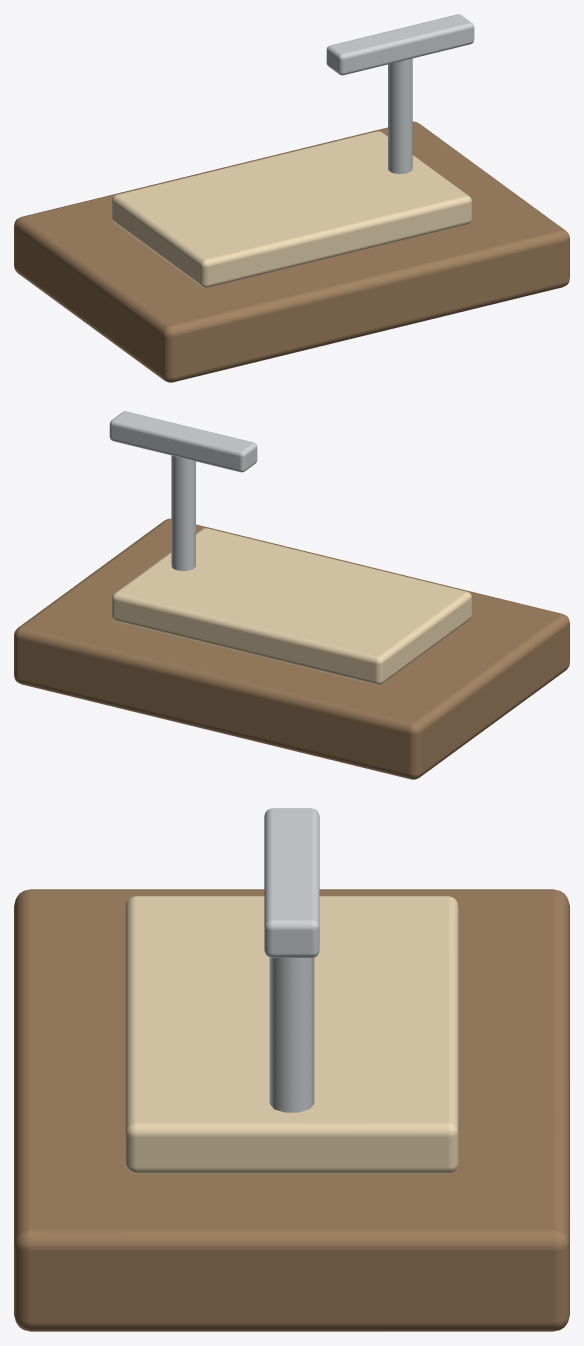
The model's file is marquetry-and-veneer-inlay-workshop-cabinet-scraper-bu-c406b72c__39126.glb.
The picture shows the model from 3 angles, top to bottom: view 1: azimuth 30°, elevation 25°; view 2: azimuth 150°, elevation 25°; view 3: azimuth 270°, elevation 25°; orthographic projection. The views are drawn at different scales.
Parts seen in each view (by area): view 1: cabinet-scraper-burnishing-jig; view 2: cabinet-scraper-burnishing-jig; view 3: cabinet-scraper-burnishing-jig.
Boxes of the visible parts, x1=… form: cabinet-scraper-burnishing-jig: x1=14, y1=14, x2=569, y2=382; cabinet-scraper-burnishing-jig: x1=14, y1=411, x2=569, y2=779; cabinet-scraper-burnishing-jig: x1=14, y1=808, x2=569, y2=1331.
Bounding box in the file's own units: 0.3 × 0.155 × 0.2.
